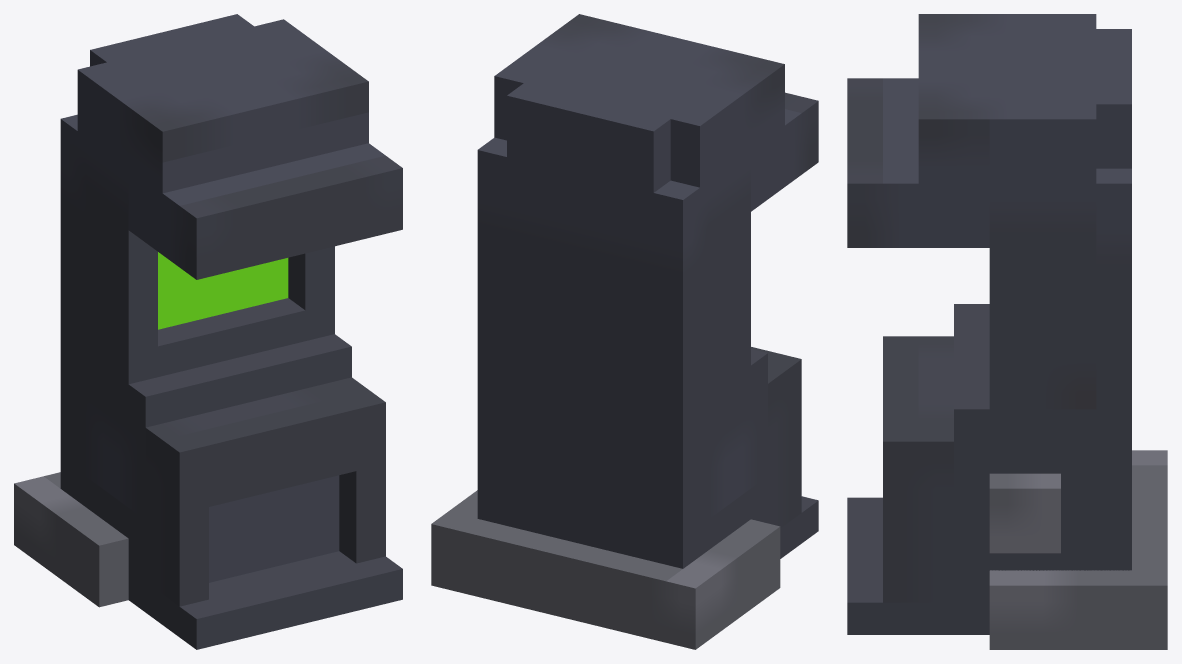
The model's file is Machine_ATM.fbx.
The picture shows the model from 3 angles, left to right: view 1: azimuth 30°, elevation 25°; view 2: azimuth 150°, elevation 25°; view 3: azimuth 270°, elevation 25°; orthographic projection. The views are drawn at different scales.
Parts seen in each view (by area): view 1: Machine_ATM; view 2: Machine_ATM; view 3: Machine_ATM.
Boxes of the visible parts, <box> form: Machine_ATM: <box>14,14,402,649</box>; Machine_ATM: <box>431,14,818,649</box>; Machine_ATM: <box>847,14,1167,649</box>.
Size of the model in its own units: 90 by 160 by 90.
2 materials, 2 textured.
